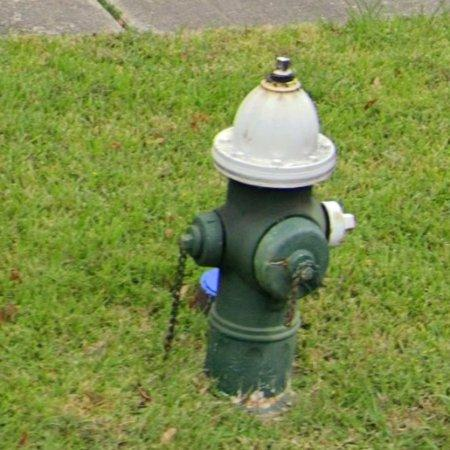a fire hydrant: (181, 57, 356, 395)
